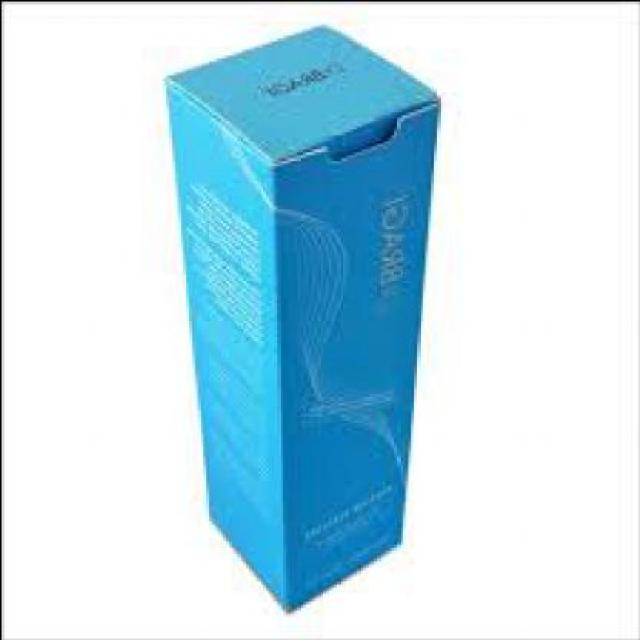CARDBOARD: (168, 22, 444, 608)
